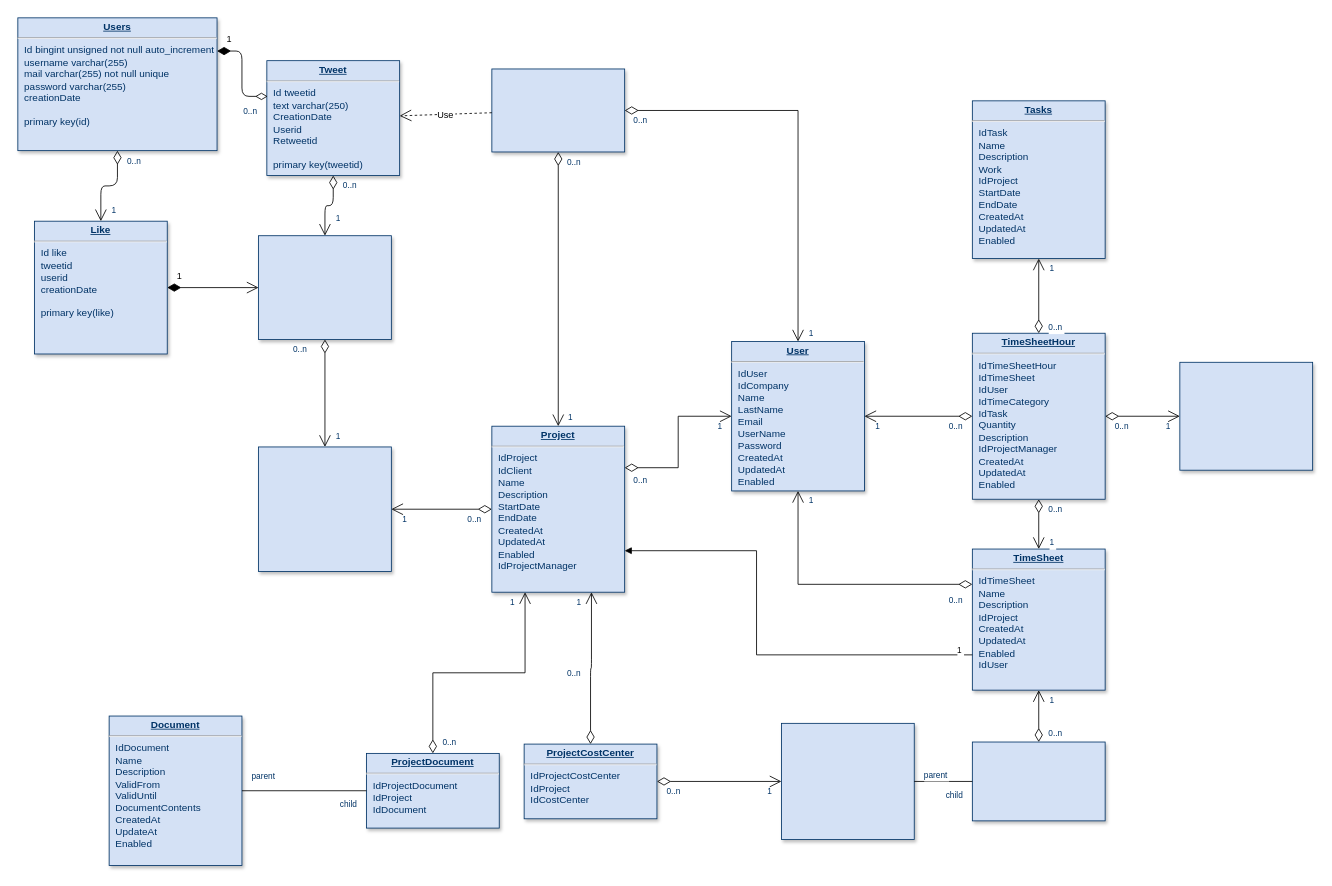
Some shapes in this 1332 by 886 pixel diagram are drawn without their labels. Here are the shapes that lost their labels. From the top down, the centre of each, then its label:
At point (559, 111): "UserProjectRole IdUserProjectRole IdRole IdProject IdUser".
At point (325, 288): "Company Name Description CreatedAt UpdatedAt Enabled".
At point (1247, 417): "TimeCategory IdTimeCategory Name Description CreatedAt UpdatedAt Enabled".
At point (325, 510): "Client IdClient IdCompany Name Description CreatedAt UpdatedAt Enabled".
At point (848, 782): "CostCenter IdCostCenter Name Description CreatedAt UpdatedAt Enabled".
At point (1039, 782): "TimeSheetCostCenter IdTimeSheetCostCenter IdTimeSheet IdCostCenter".
